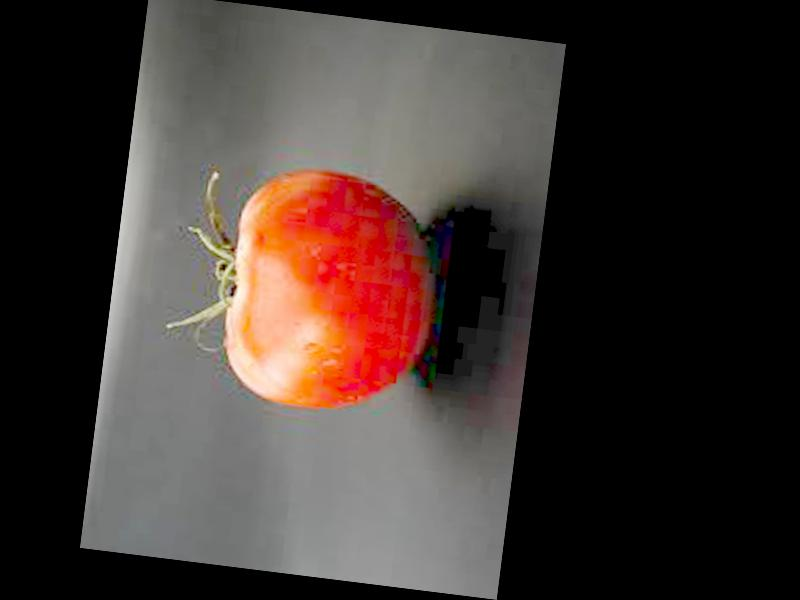Tomato: (216, 162, 444, 423)
